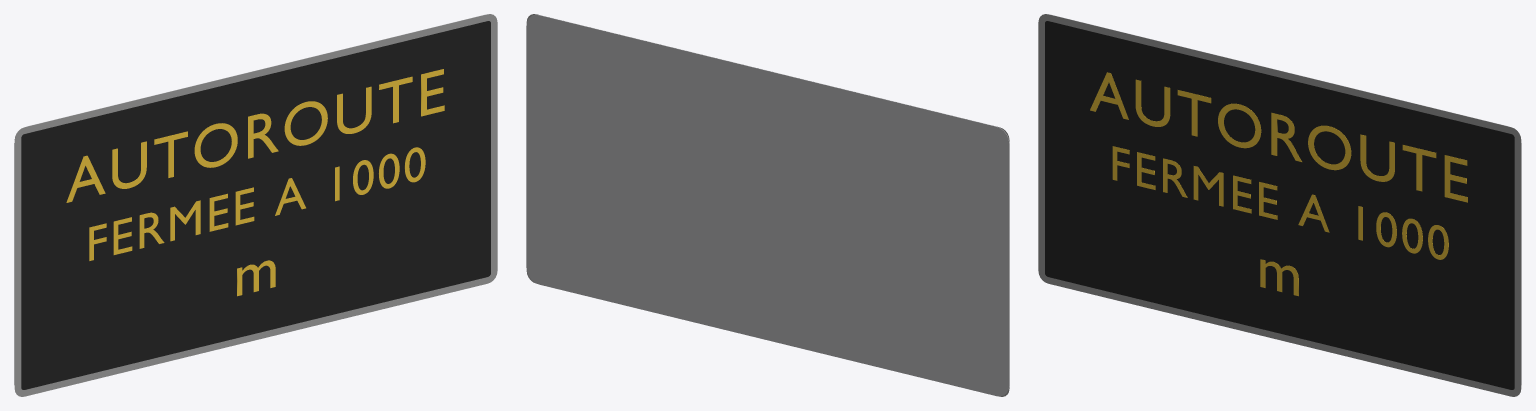
Rendered from MSG_AUTOROUTE_FERMEE_A_xxxx_m.glb.
3 renders of one model, left to right at view 1: azimuth 30°, elevation 25°; view 2: azimuth 150°, elevation 25°; view 3: azimuth 330°, elevation 25°, orthographic.
Visible parts, largest first — view 1: MSG_AUTOROUTE_FERMEE_A_xxxx_m_fond01, MSG_AUTOROUTE_FERMEE_A_xxxx_m_cadre00, MSG_AUTOROUTE_FERMEE_A_xxxx_m_txt02, MSG_AUTOROUTE_FERMEE_A_xxxx_m_txt03, MSG_AUTOROUTE_FERMEE_A_xxxx_m_dos, MSG_AUTOROUTE_FERMEE_A_xxxx_m_txt04; view 2: MSG_AUTOROUTE_FERMEE_A_xxxx_m_dos; view 3: MSG_AUTOROUTE_FERMEE_A_xxxx_m_fond01, MSG_AUTOROUTE_FERMEE_A_xxxx_m_cadre00, MSG_AUTOROUTE_FERMEE_A_xxxx_m_txt02, MSG_AUTOROUTE_FERMEE_A_xxxx_m_txt03, MSG_AUTOROUTE_FERMEE_A_xxxx_m_dos, MSG_AUTOROUTE_FERMEE_A_xxxx_m_txt04.
Boxes of the visible parts, x1=… form: MSG_AUTOROUTE_FERMEE_A_xxxx_m_fond01: x1=21, y1=21, x2=490, y2=389; MSG_AUTOROUTE_FERMEE_A_xxxx_m_cadre00: x1=14, y1=14, x2=497, y2=396; MSG_AUTOROUTE_FERMEE_A_xxxx_m_txt02: x1=66, y1=69, x2=444, y2=202; MSG_AUTOROUTE_FERMEE_A_xxxx_m_txt03: x1=89, y1=147, x2=425, y2=260; MSG_AUTOROUTE_FERMEE_A_xxxx_m_dos: x1=14, y1=14, x2=484, y2=384; MSG_AUTOROUTE_FERMEE_A_xxxx_m_txt04: x1=237, y1=260, x2=275, y2=296; MSG_AUTOROUTE_FERMEE_A_xxxx_m_dos: x1=526, y1=14, x2=1009, y2=396; MSG_AUTOROUTE_FERMEE_A_xxxx_m_fond01: x1=1045, y1=21, x2=1514, y2=389; MSG_AUTOROUTE_FERMEE_A_xxxx_m_cadre00: x1=1038, y1=14, x2=1521, y2=396; MSG_AUTOROUTE_FERMEE_A_xxxx_m_txt02: x1=1090, y1=72, x2=1467, y2=202; MSG_AUTOROUTE_FERMEE_A_xxxx_m_txt03: x1=1112, y1=146, x2=1448, y2=259; MSG_AUTOROUTE_FERMEE_A_xxxx_m_dos: x1=1051, y1=14, x2=1521, y2=384; MSG_AUTOROUTE_FERMEE_A_xxxx_m_txt04: x1=1260, y1=259, x2=1298, y2=296.
Size of the model in its own units: 1.5 by 0.8 by 0.0033.
